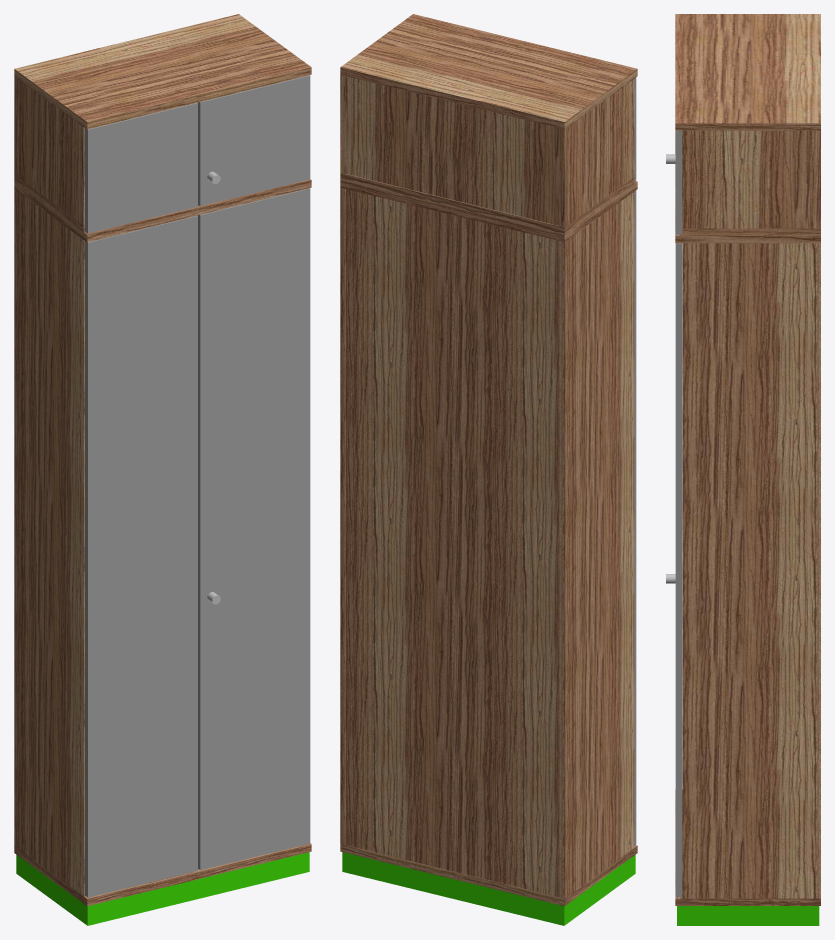
The model's file is baseline_6OH_+1OH_45x80_fin.fbx.
3 views of the same model, side by side, from view 1: azimuth 30°, elevation 25°; view 2: azimuth 150°, elevation 25°; view 3: azimuth 270°, elevation 25° (orthographic).
Visible parts, largest first — view 1: body_mesh, polySurface2, polySurface1, polySurface4, polySurface3, podstawa_mesh; view 2: body_mesh, podstawa_mesh, polySurface2; view 3: body_mesh, polySurface1, podstawa_mesh, polySurface3.
Boxes of the visible parts, x1,y1,x2,y2 form: body_mesh: (14, 14, 311, 906); polySurface2: (85, 215, 197, 897); polySurface1: (198, 188, 310, 870); polySurface4: (85, 102, 197, 233); polySurface3: (198, 75, 310, 205); podstawa_mesh: (16, 852, 309, 925); body_mesh: (340, 14, 637, 906); podstawa_mesh: (342, 852, 635, 925); polySurface2: (634, 190, 636, 845); body_mesh: (675, 14, 820, 905); polySurface1: (675, 243, 681, 897); podstawa_mesh: (677, 906, 819, 925); polySurface3: (675, 130, 681, 234).
Bounding box in the file's own units: 80 × 274 × 47.85.
